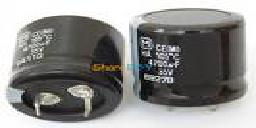Electrolytic Capacitor: (128, 1, 255, 116), (6, 11, 126, 125)
